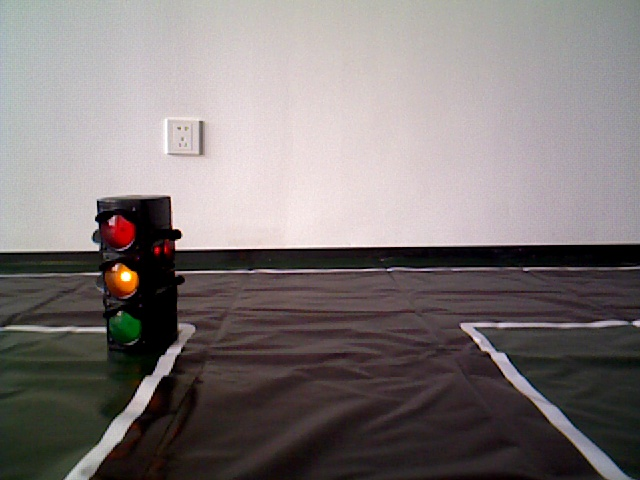yellow: (96, 193, 179, 364)
